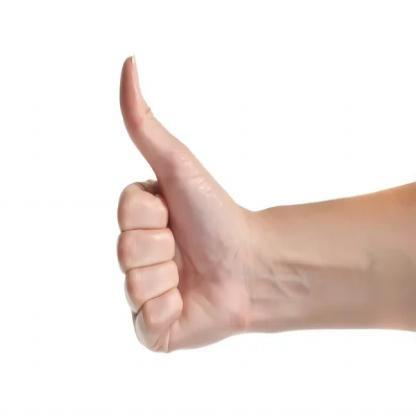thumb_up: (116, 51, 257, 350)
